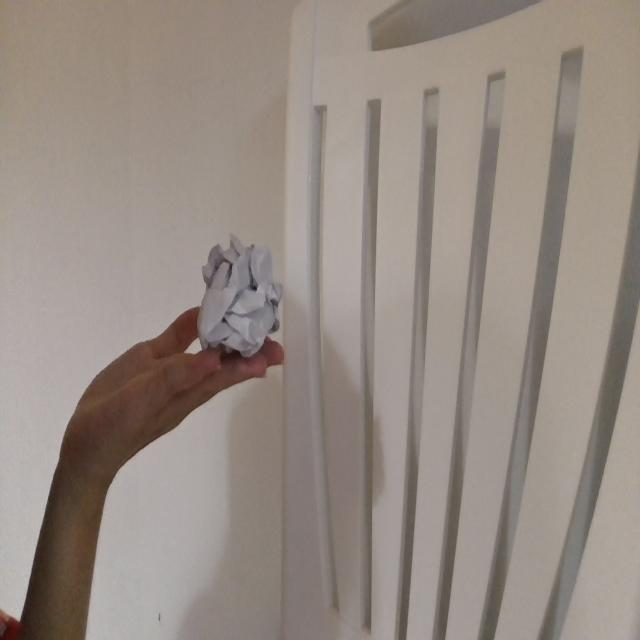crumpled_paper: (198, 232, 285, 360)
